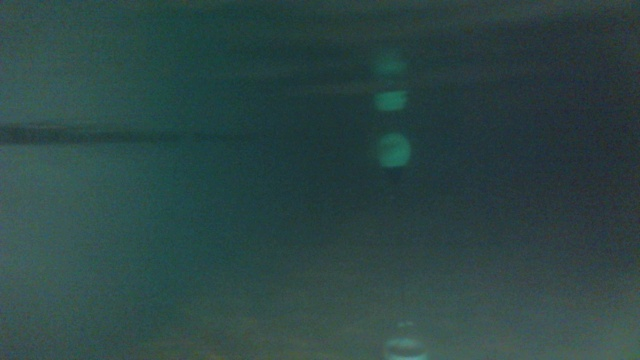buoy_green: (372, 129, 412, 182)
